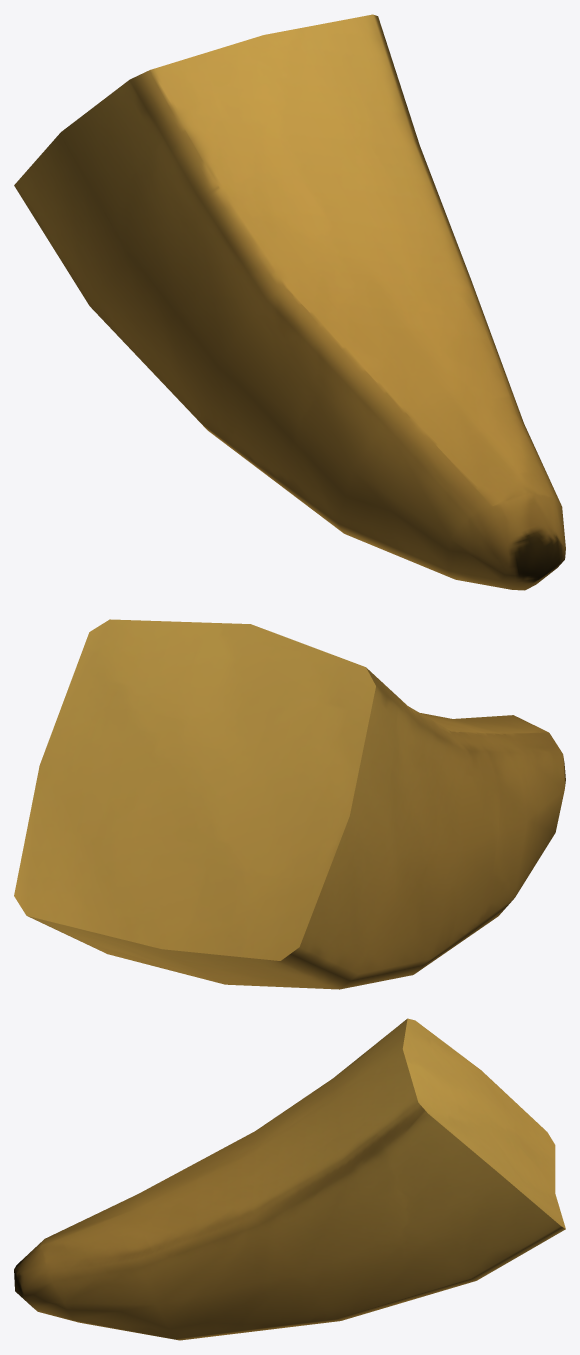
File: banana_gib.fbx
The picture shows the model from 3 angles, top to bottom: view 1: azimuth 30°, elevation 25°; view 2: azimuth 150°, elevation 25°; view 3: azimuth 270°, elevation 25°; orthographic projection. The views are drawn at different scales.
Visible parts, largest first — view 1: banana.005; view 2: banana.005; view 3: banana.005.
Part boxes in pixels (bbox=[...]): banana.005: bbox=[14, 14, 565, 590]; banana.005: bbox=[14, 619, 565, 989]; banana.005: bbox=[14, 1018, 565, 1340].
Bounding box in the file's own units: 3.88 × 9.37 × 5.22.
1 material, 1 textured.
